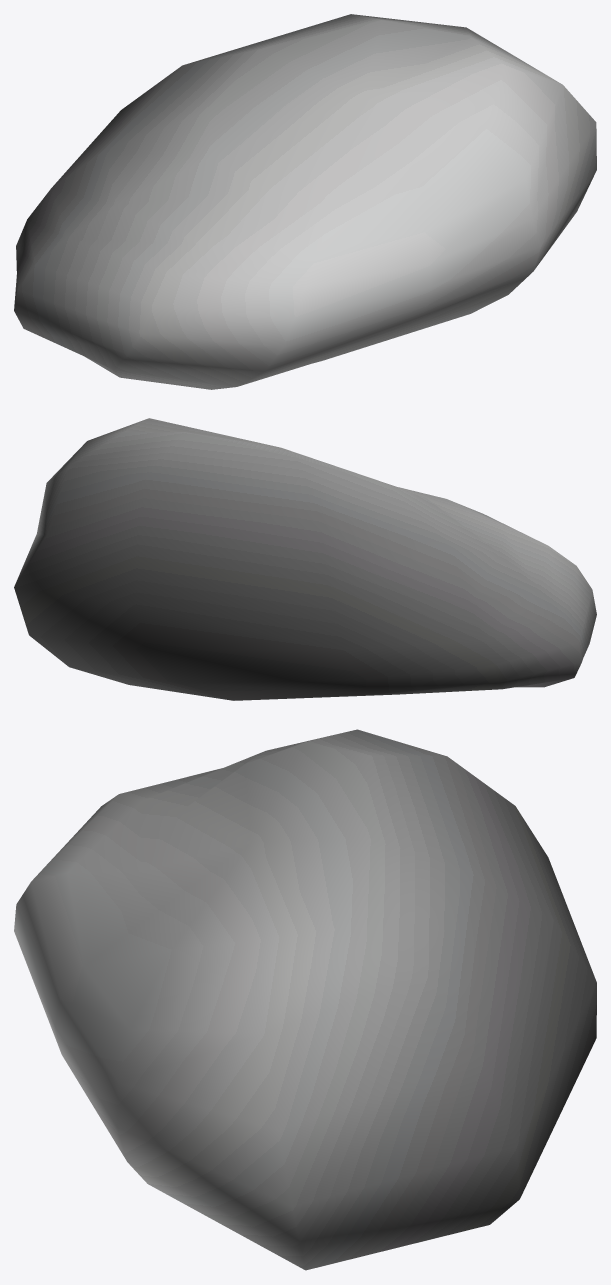
File: SM_Rock_02.fbx
3 views of the same model, one above another, from view 1: azimuth 30°, elevation 25°; view 2: azimuth 150°, elevation 25°; view 3: azimuth 270°, elevation 25° (orthographic). The views are drawn at different scales.
Visible parts, largest first — view 1: SM_Rock_02; view 2: SM_Rock_02; view 3: SM_Rock_02.
Part boxes in pixels (x1,y1,x2,y2): SM_Rock_02: (14, 14, 596, 389); SM_Rock_02: (14, 418, 596, 700); SM_Rock_02: (14, 729, 596, 1270).
Bounding box in the file's own units: 463 × 200 × 289.
1 material, 1 textured.
